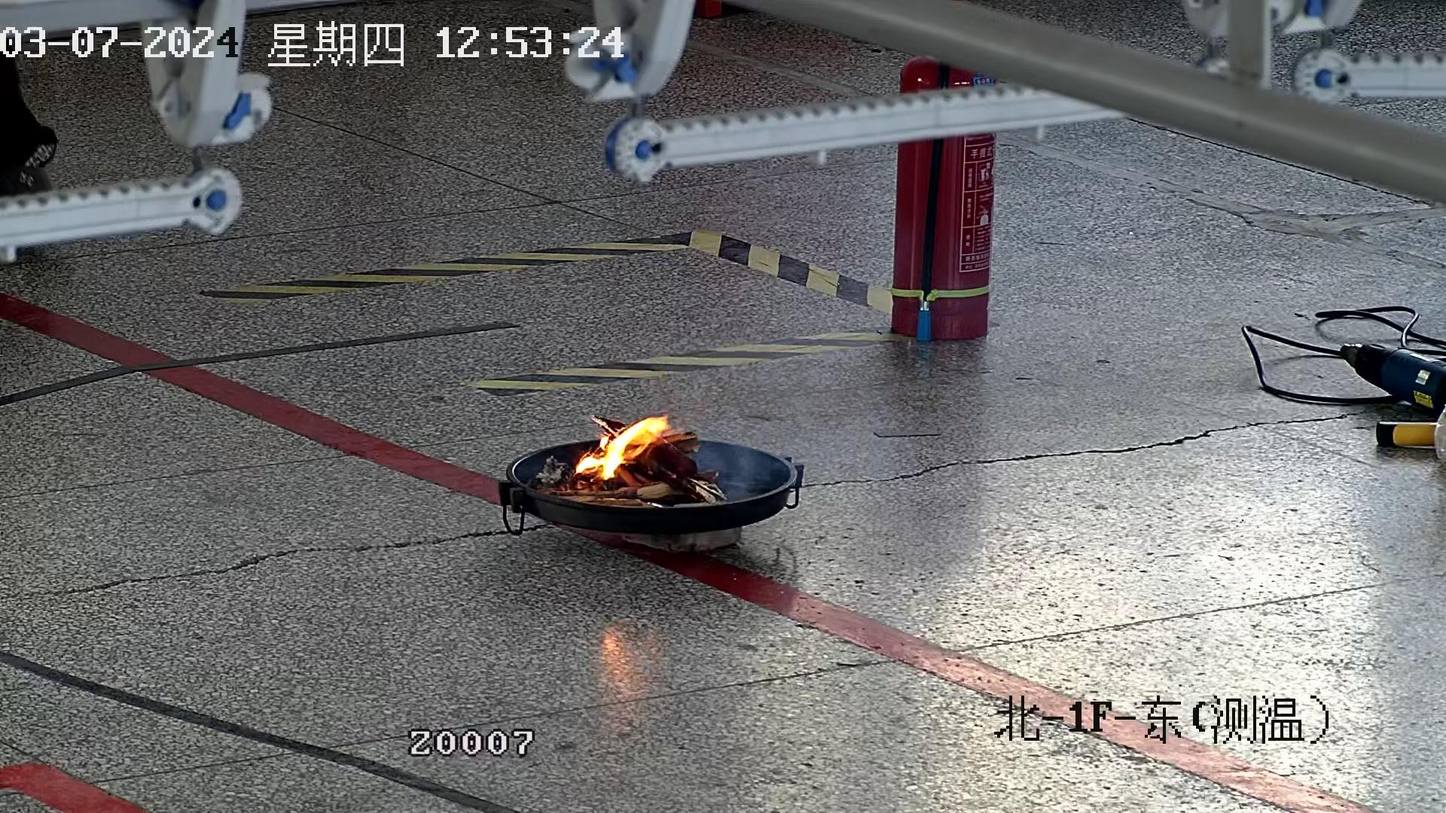fire: (576, 416, 670, 478)
